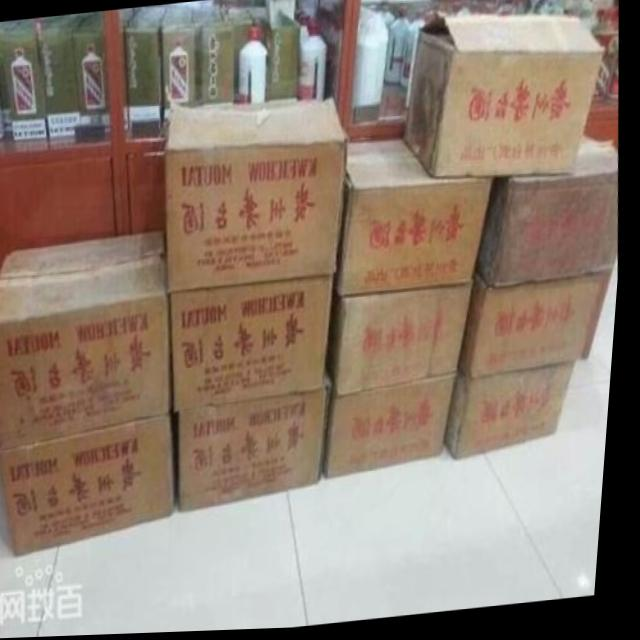box: (0, 231, 176, 448), (167, 98, 350, 294), (405, 18, 605, 179), (4, 414, 183, 557), (339, 141, 495, 299), (174, 277, 337, 413), (478, 137, 621, 291), (184, 375, 335, 513), (462, 271, 616, 381), (332, 286, 475, 400), (331, 375, 461, 479), (454, 367, 581, 462)
